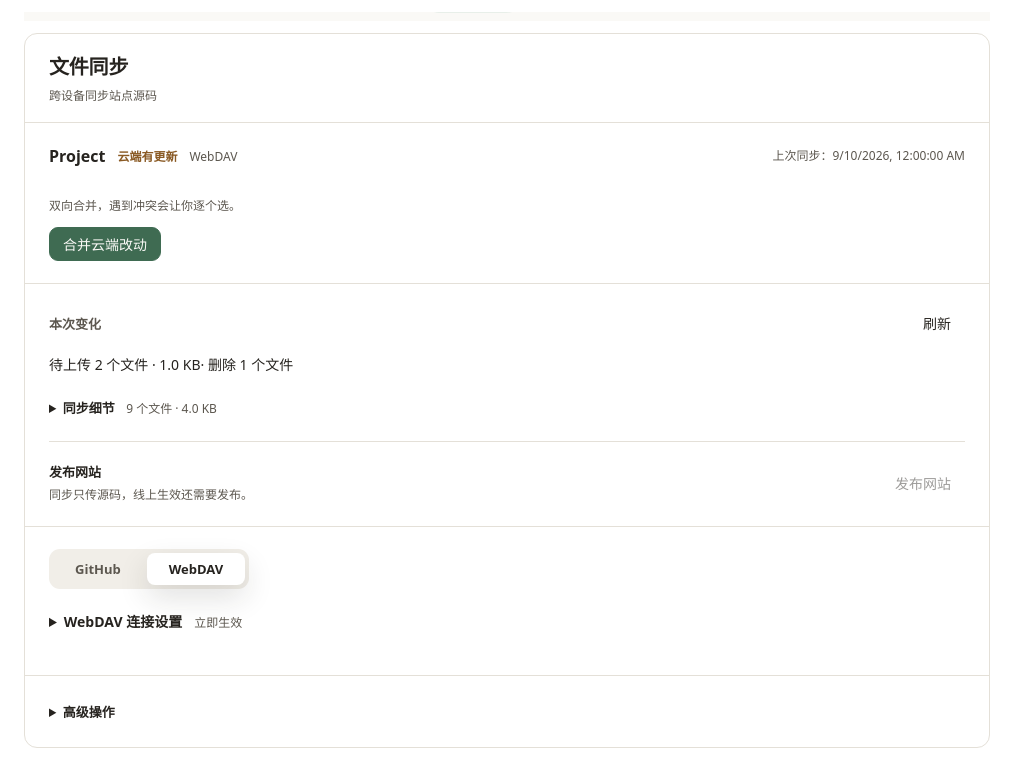
settings interaction recovery › shows the shared remote-ahead choices for WebDAV
Expected: the button "合并云端改动" is shown, [49,227,161,261]
Click the heading "高级操作" at (89, 712), box [63,703,115,721]
(page scrolled)
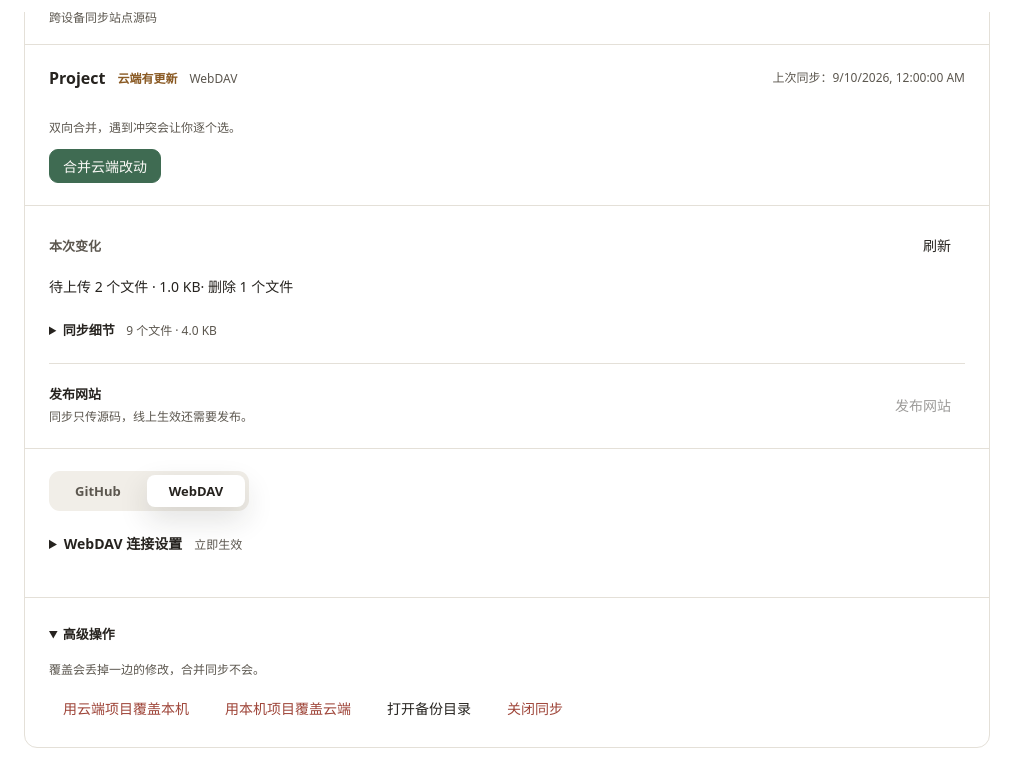
Expected: the element "用本机项目覆盖云端" is shown, [25,597,989,747]
